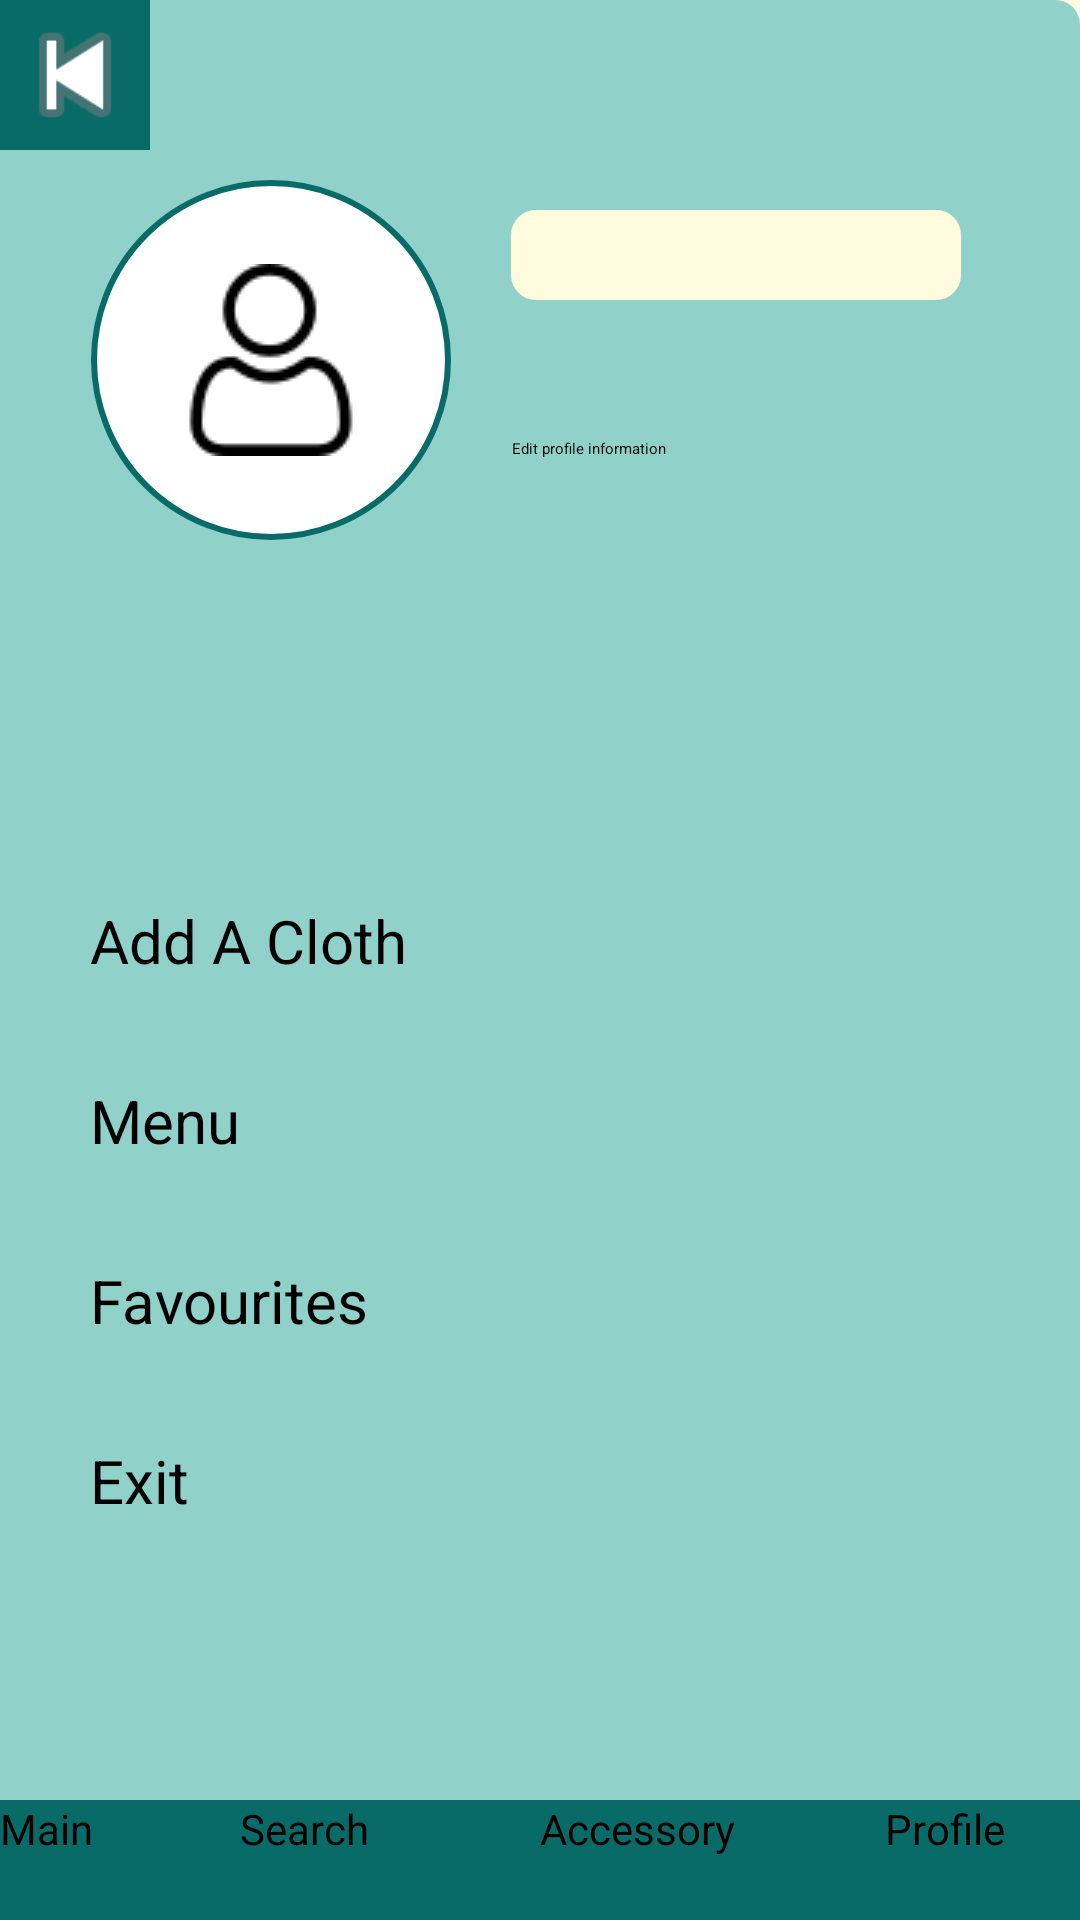

Icons on this 1080x1920 Android screen, each with the point to tap as (x,y):
previous: (75,75)
user: (271,360)
